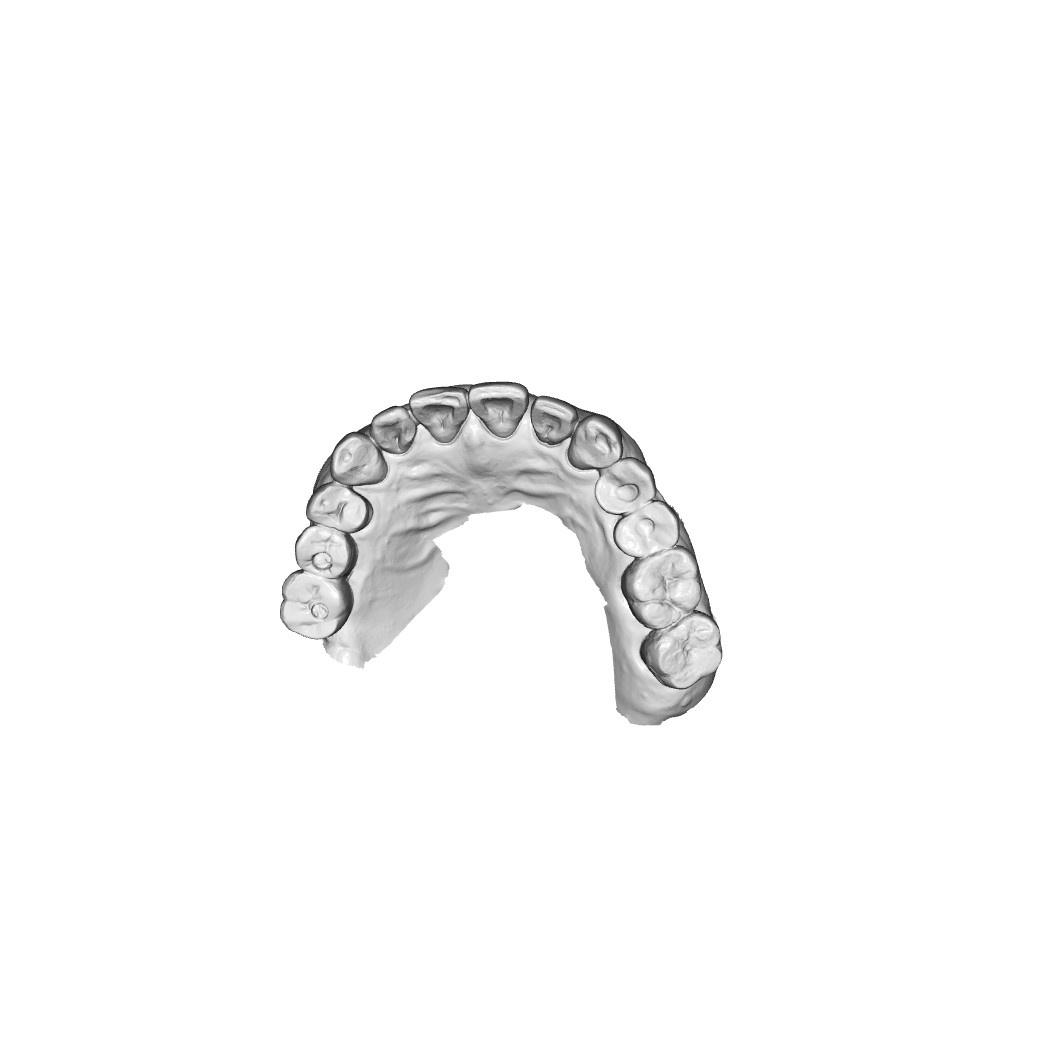canine: (324, 429, 390, 489), (566, 414, 625, 472)
incisor: (408, 386, 470, 445), (472, 379, 525, 434), (369, 403, 417, 454), (527, 396, 575, 443)
molar: (621, 543, 705, 633), (638, 611, 726, 694), (274, 570, 354, 640)
premolar: (592, 453, 657, 514), (612, 503, 679, 559), (305, 481, 373, 535), (294, 521, 353, 578)
